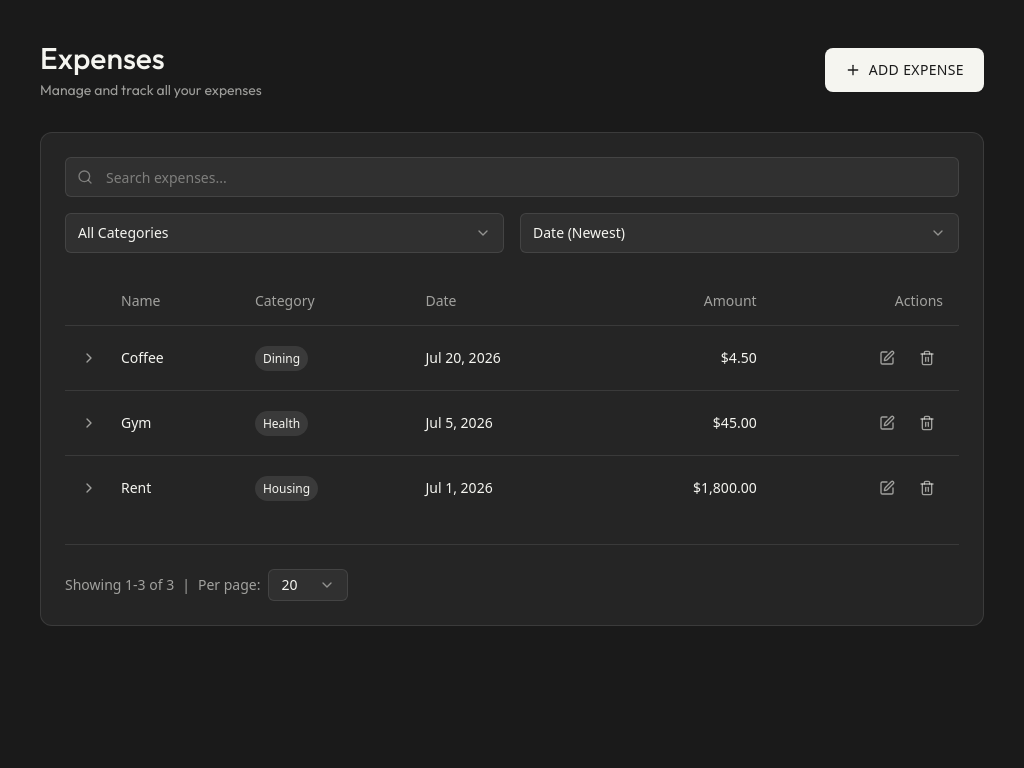
ExpensesPage - one delete confirmation, scoped to its row › opens a single dialog when a desktop row delete is clicked
Expected: the table is shown, 65,277 -> 959,520
Expected: the text "Rent" is shown, 121,478 -> 151,496
Click the button named "Delete Rent" at (927, 488), box 911,472 -> 943,504
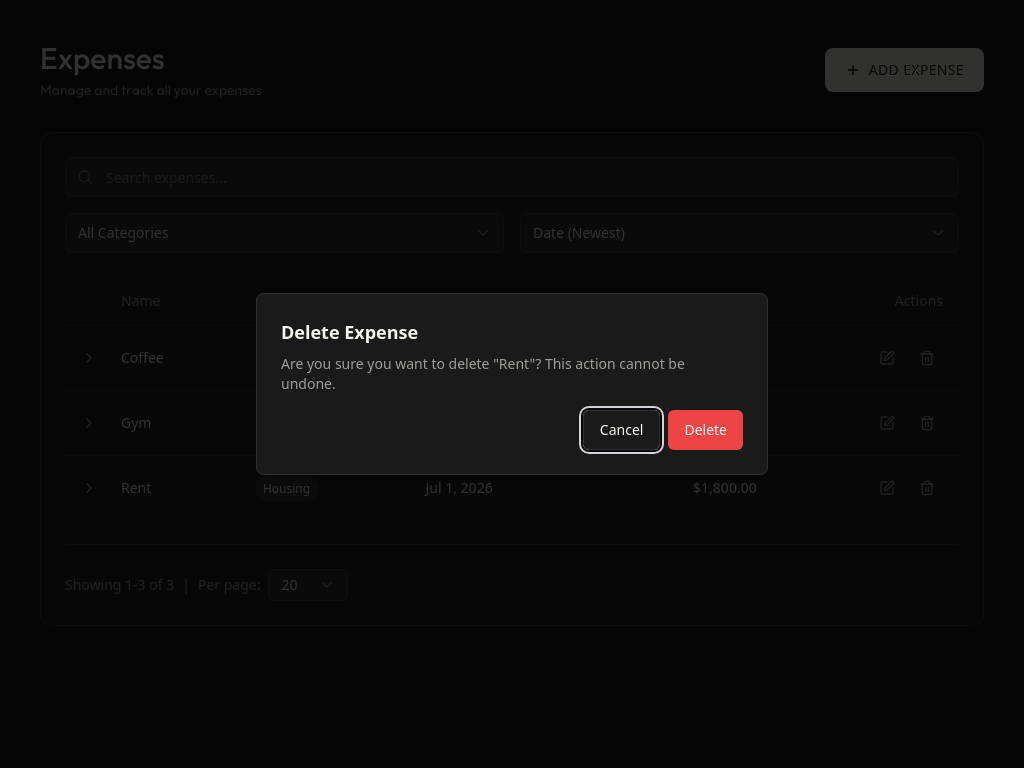
Expected: the number of dialogs is 1, 256,293 -> 768,475
